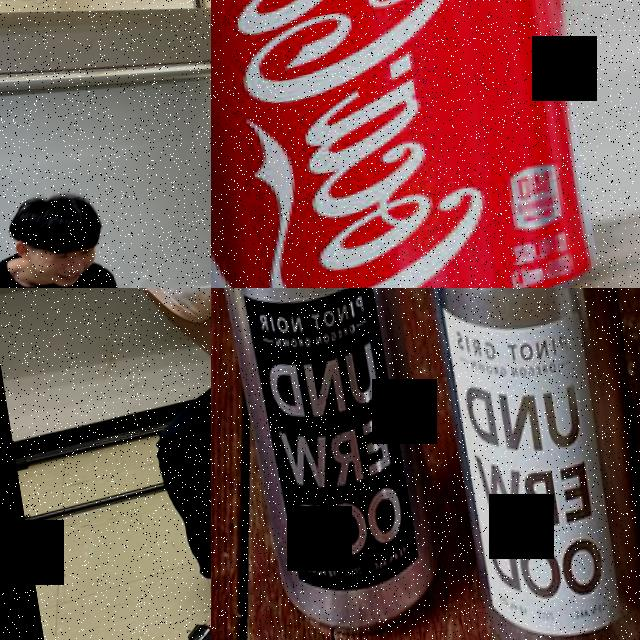can: (211, 0, 627, 288), (211, 288, 453, 640), (401, 288, 640, 640)
